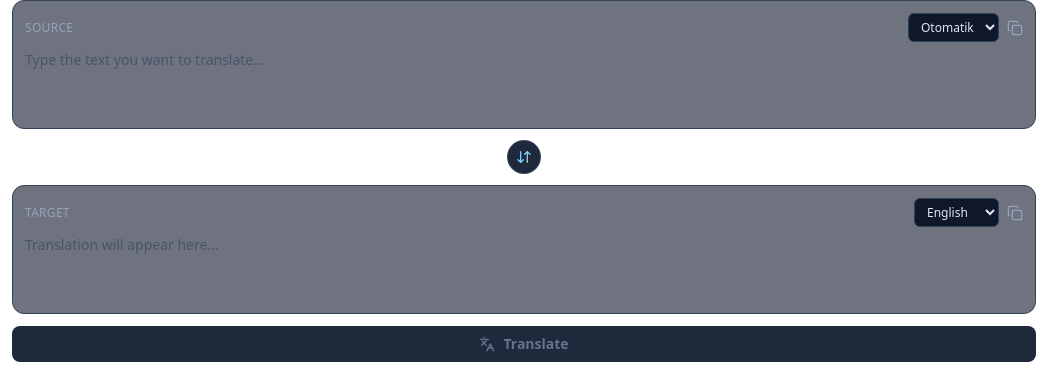
Test case: TranslationCard real-API flow › posts the source to the API and renders translated_text
Type "merhaba" into the text box with test id "source-pane".
click(524, 80); type("merhaba")  # box [25, 50, 1023, 110]
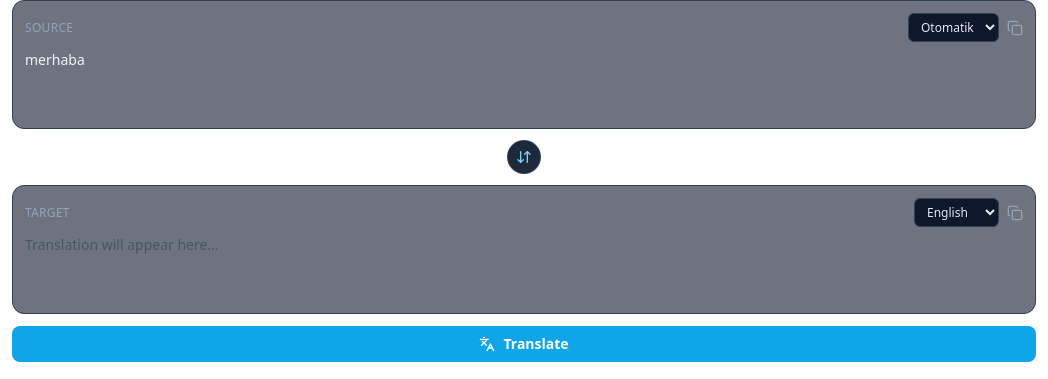
Click the button with test id "translate-button".
click(524, 344)  # box [12, 326, 1036, 362]
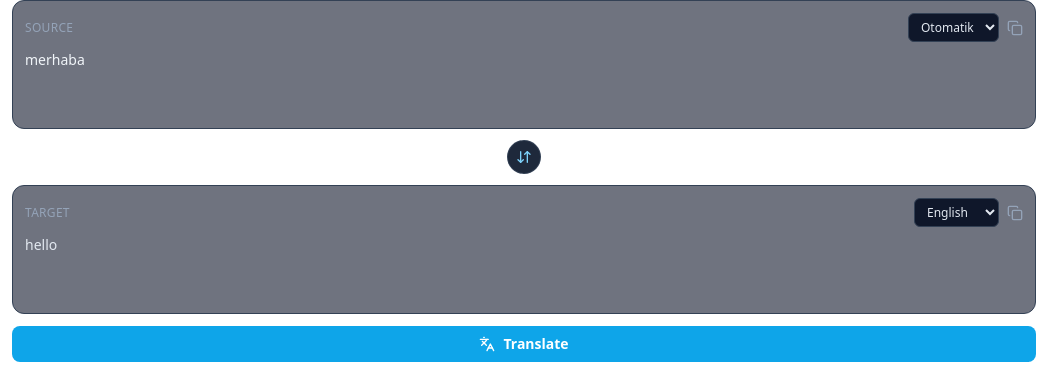
Now the text box with test id "target-pane" holds "hello", box [25, 235, 1023, 295]
